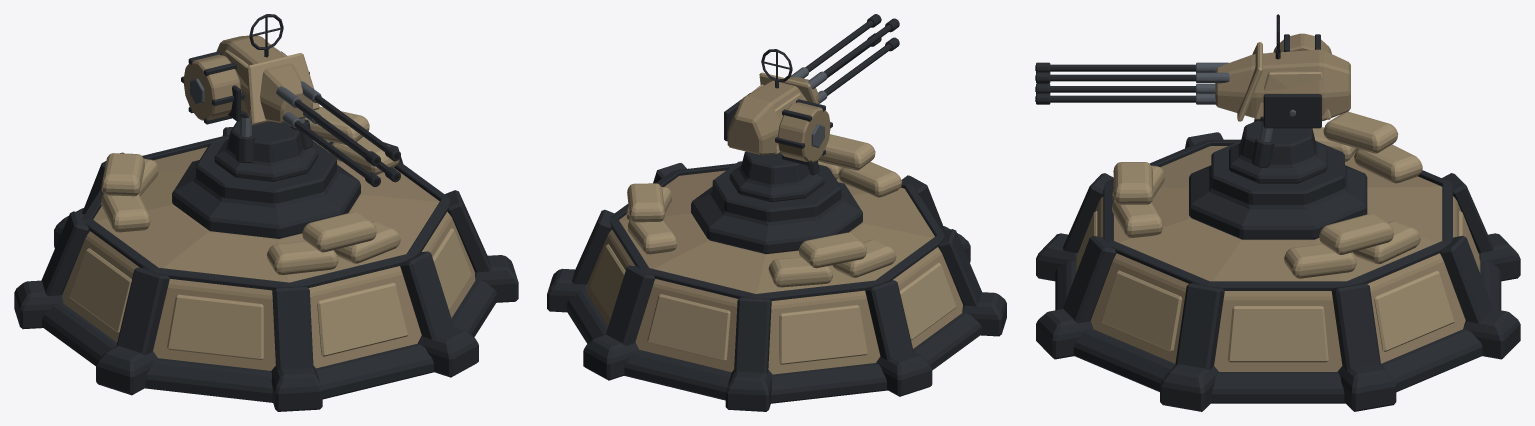
Rendered from aa3-halcon-n4.glb.
3 renders of one model, left to right at view 1: azimuth 30°, elevation 25°; view 2: azimuth 150°, elevation 25°; view 3: azimuth 270°, elevation 25°, orthographic. The views are drawn at different scales.
Visible parts, largest first — view 1: casco, gun_pitch, turret_yaw; view 2: casco, gun_pitch, turret_yaw; view 3: casco, gun_pitch, turret_yaw.
Boxes of the visible parts, left/top/right/bottom form: casco: left=14, top=106, right=518, bottom=411; gun_pitch: left=181, top=14, right=400, bottom=186; turret_yaw: left=214, top=110, right=318, bottom=181; casco: left=547, top=134, right=1006, bottom=411; gun_pitch: left=724, top=14, right=899, bottom=165; turret_yaw: left=729, top=151, right=824, bottom=202; casco: left=1036, top=111, right=1520, bottom=411; gun_pitch: left=1035, top=14, right=1350, bottom=128; turret_yaw: left=1229, top=116, right=1327, bottom=183.
Bounding box in the file's own units: 1 × 0.6714 × 1.
